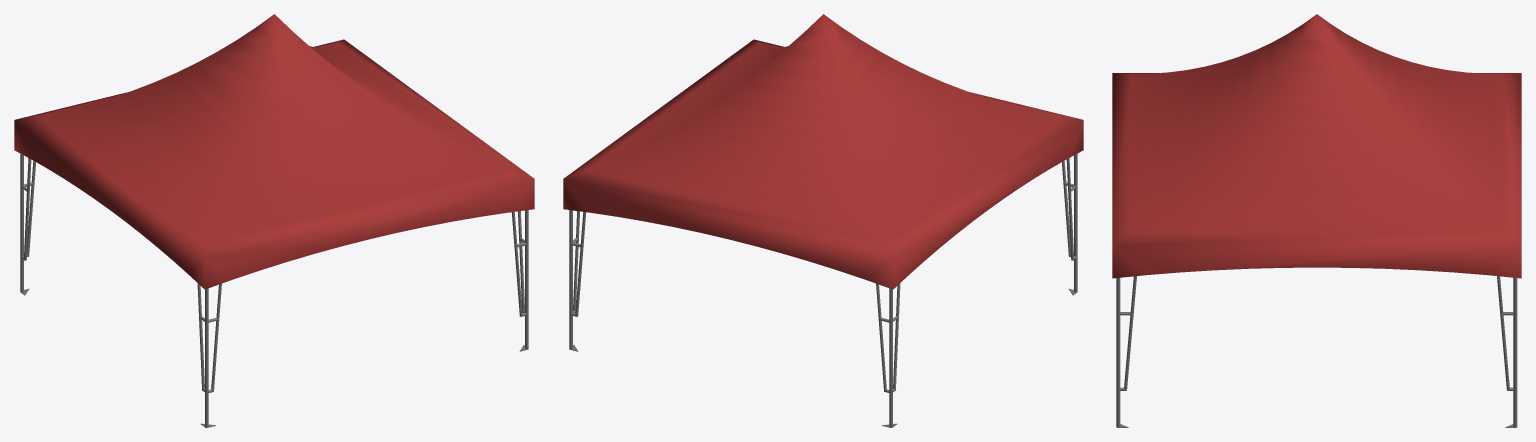
File: carpa.fbx
3 renders of one model, left to right at view 1: azimuth 30°, elevation 25°; view 2: azimuth 150°, elevation 25°; view 3: azimuth 270°, elevation 25°, orthographic. The views are drawn at different scales.
Parts seen in each view (by area): view 1: Tent Cover_001, Pole Ø 5 cm_010, Pole Ø 5 cm_011, Pole Ø 5 cm_013; view 2: Tent Cover_001, Pole Ø 5 cm_013, Pole Ø 5 cm_012, Pole Ø 5 cm_010; view 3: Tent Cover_001, Pole Ø 5 cm_012, Pole Ø 5 cm_011, Pole Ø 4 cm_017, Pole Ø 4 cm_010.
Boxes of the visible parts, x1,y1,x2,y2 form: Tent Cover_001: (14, 14, 534, 289); Pole Ø 5 cm_010: (205, 288, 208, 427); Pole Ø 5 cm_011: (525, 210, 528, 349); Pole Ø 5 cm_013: (20, 153, 23, 291); Tent Cover_001: (563, 14, 1083, 289); Pole Ø 5 cm_013: (889, 288, 892, 427); Pole Ø 5 cm_012: (569, 210, 572, 349); Pole Ø 5 cm_010: (1074, 153, 1077, 291); Tent Cover_001: (1112, 14, 1521, 278); Pole Ø 5 cm_012: (1513, 277, 1517, 427); Pole Ø 5 cm_011: (1116, 278, 1120, 427); Pole Ø 4 cm_017: (1497, 276, 1509, 390); Pole Ø 4 cm_010: (1124, 276, 1136, 390).
Bounding box in the file's own units: 510 × 453 × 510.
